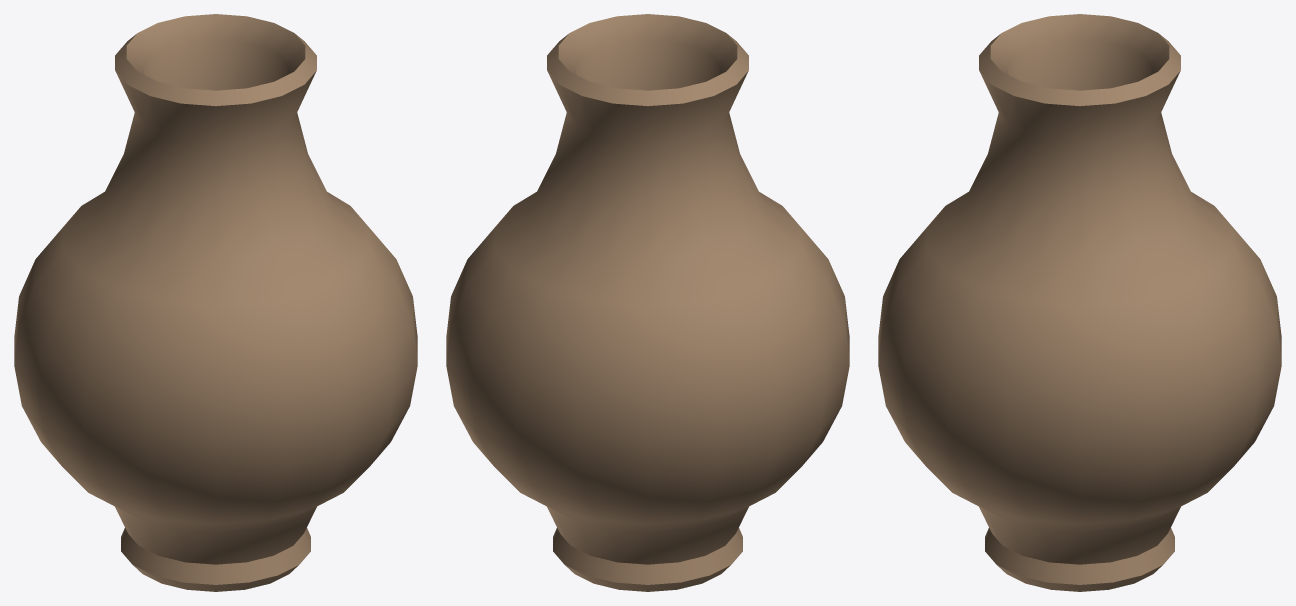
File: Kit_Urn.fbx
3 renders of one model, left to right at view 1: azimuth 30°, elevation 25°; view 2: azimuth 150°, elevation 25°; view 3: azimuth 270°, elevation 25°, orthographic.
Visible parts, largest first — view 1: Kit_Urn_LOD0; view 2: Kit_Urn_LOD0; view 3: Kit_Urn_LOD0.
Boxes of the visible parts, bbox=[...] form: Kit_Urn_LOD0: bbox=[14, 14, 417, 591]; Kit_Urn_LOD0: bbox=[446, 14, 849, 591]; Kit_Urn_LOD0: bbox=[878, 14, 1281, 591].
Size of what is drawn, in the model's own units: 0.2799 by 0.38 by 0.2756.
